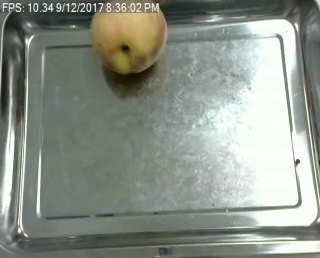Peach: (89, 0, 168, 74)
